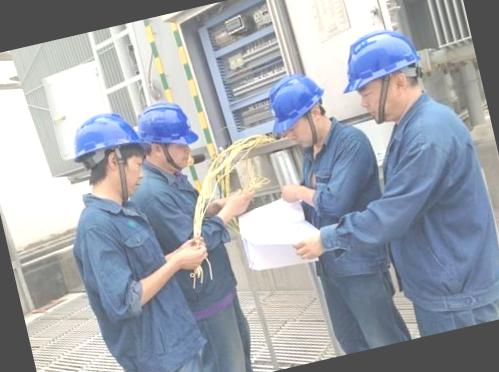helmet: (331, 19, 428, 110), (52, 99, 151, 178), (254, 63, 336, 144), (126, 93, 203, 162)
no_vest: (348, 84, 499, 316), (59, 183, 196, 372), (272, 119, 394, 294), (127, 160, 236, 330)
person: (330, 9, 499, 339), (242, 60, 399, 364), (37, 100, 202, 372), (121, 89, 274, 372)
